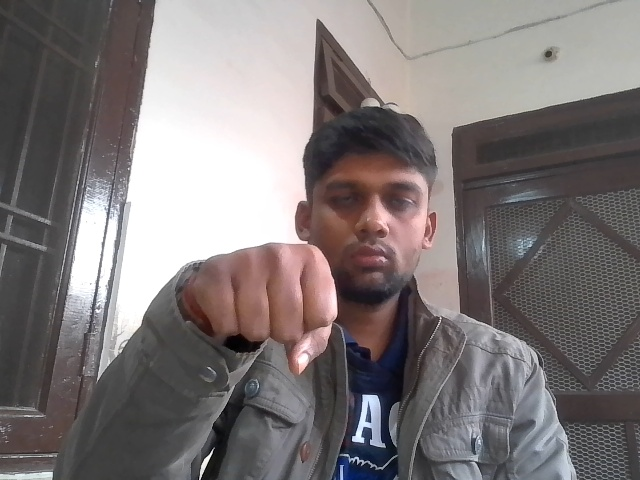Yes: (176, 220, 347, 385)
